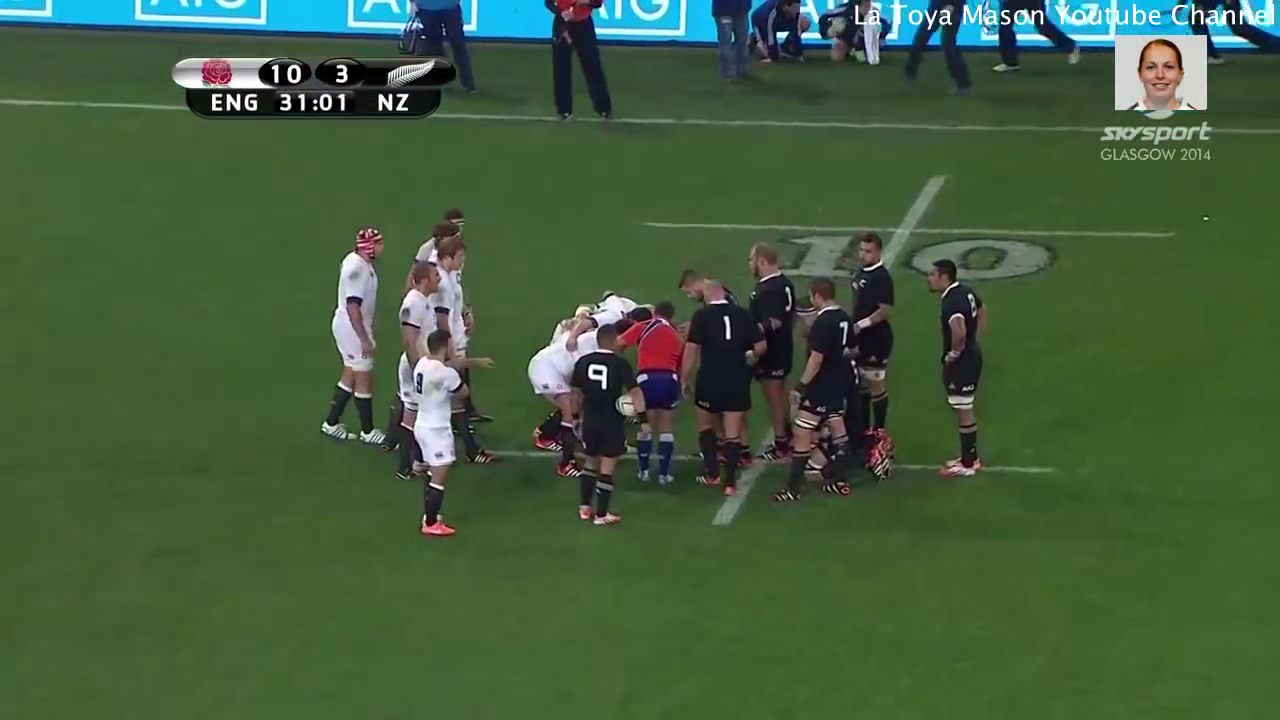10_metre: (426, 356, 1068, 528), (621, 169, 1186, 300)
ball: (606, 377, 649, 427)
player: (673, 273, 770, 503), (768, 275, 858, 505), (316, 219, 401, 462), (914, 254, 993, 487), (394, 320, 473, 547), (833, 229, 912, 456), (608, 290, 690, 502), (554, 320, 634, 529), (525, 318, 613, 492), (387, 246, 447, 494), (735, 237, 797, 474), (415, 228, 466, 341), (395, 214, 460, 292)
